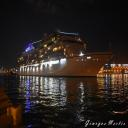cruises: (16, 27, 116, 80)
